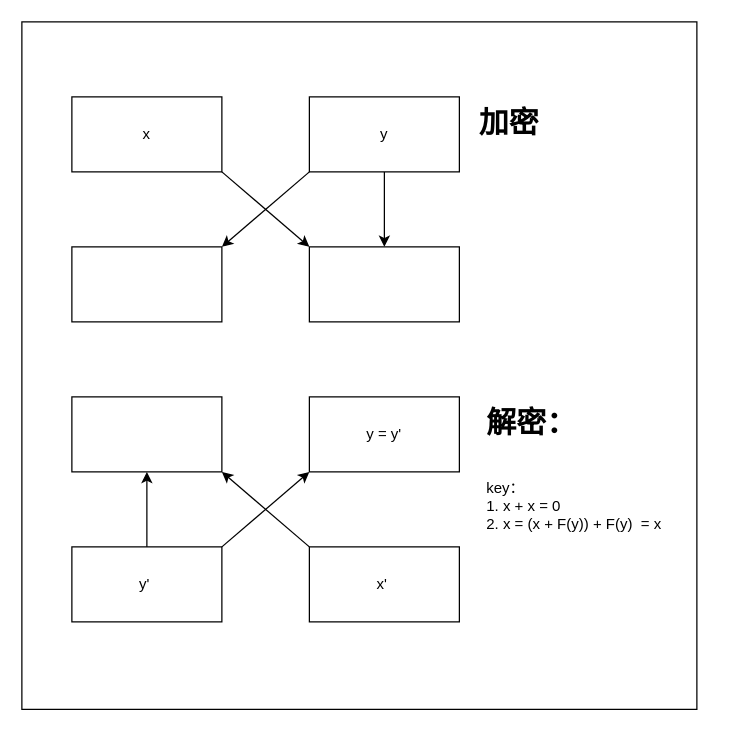
This 731x731 diagram has some shape labels left out. The shapes that lost their labels are listed below. From the top down, each one's centre as x and y in pixels, then its label:
At point 146,284: "y' = y".
At point 383,284: "x' = x + F(y)".
At point 146,434: "x = x' + F(y')".
